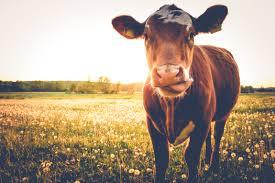cow: (112, 5, 240, 183)
